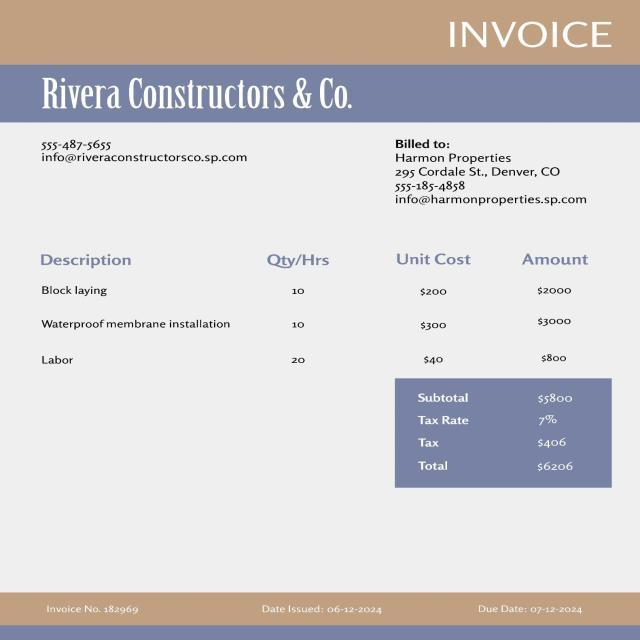ROI: (31, 247, 608, 373), (407, 386, 591, 478), (389, 138, 600, 208), (41, 78, 362, 112), (29, 138, 257, 168), (450, 18, 618, 56), (472, 600, 596, 621), (256, 600, 388, 618), (44, 602, 141, 617)
